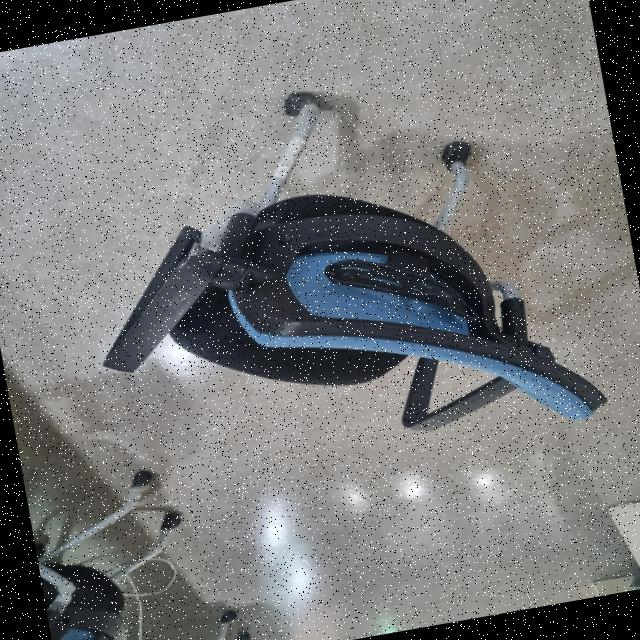Chair: (38, 13, 640, 551)
